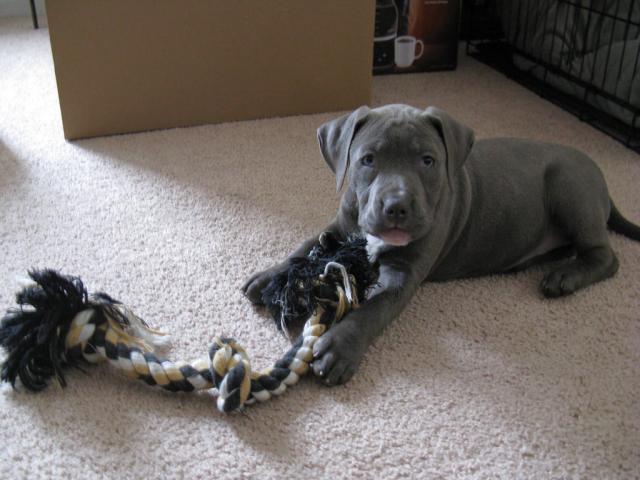Dog: (240, 105, 640, 386)
